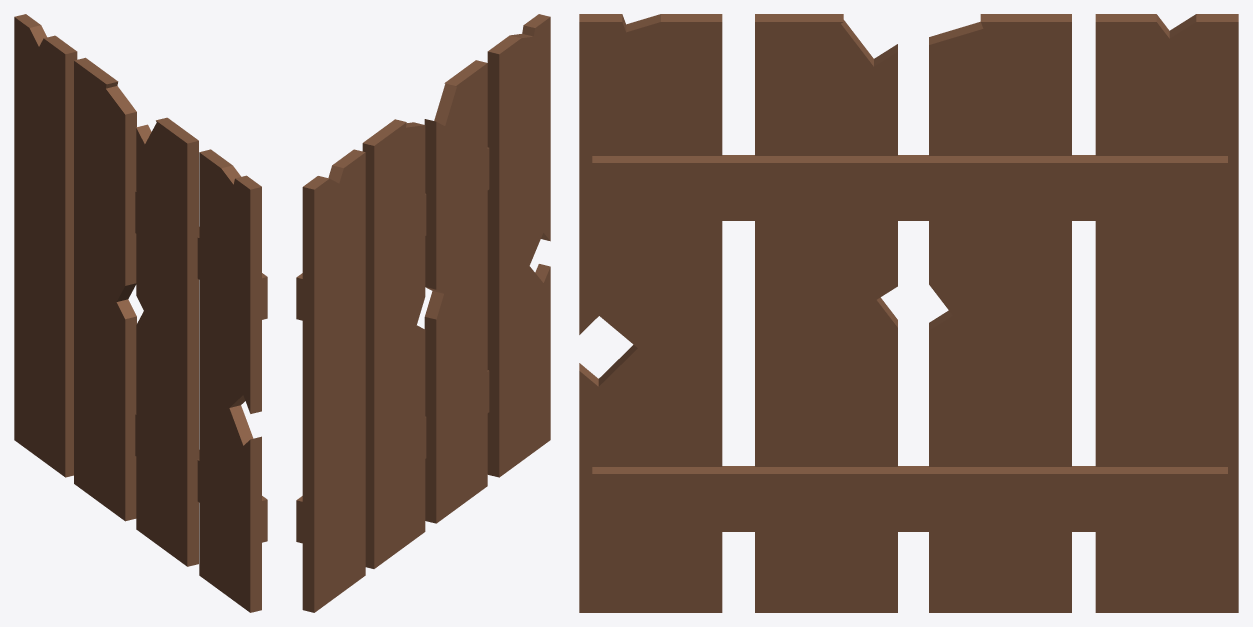
The model's file is fence_1.fbx.
3 renders of one model, left to right at view 1: azimuth 30°, elevation 25°; view 2: azimuth 150°, elevation 25°; view 3: azimuth 270°, elevation 25°, orthographic. The views are drawn at different scales.
Visible parts, largest first — view 1: fence_1; view 2: fence_1; view 3: fence_1.
Part boxes in pixels (x1,y1,x2,y2): fence_1: (14,14,267,612); fence_1: (296,14,550,612); fence_1: (579,14,1238,612).
Bounding box in the file's own units: 0.0487 × 0.8978 × 0.908.
